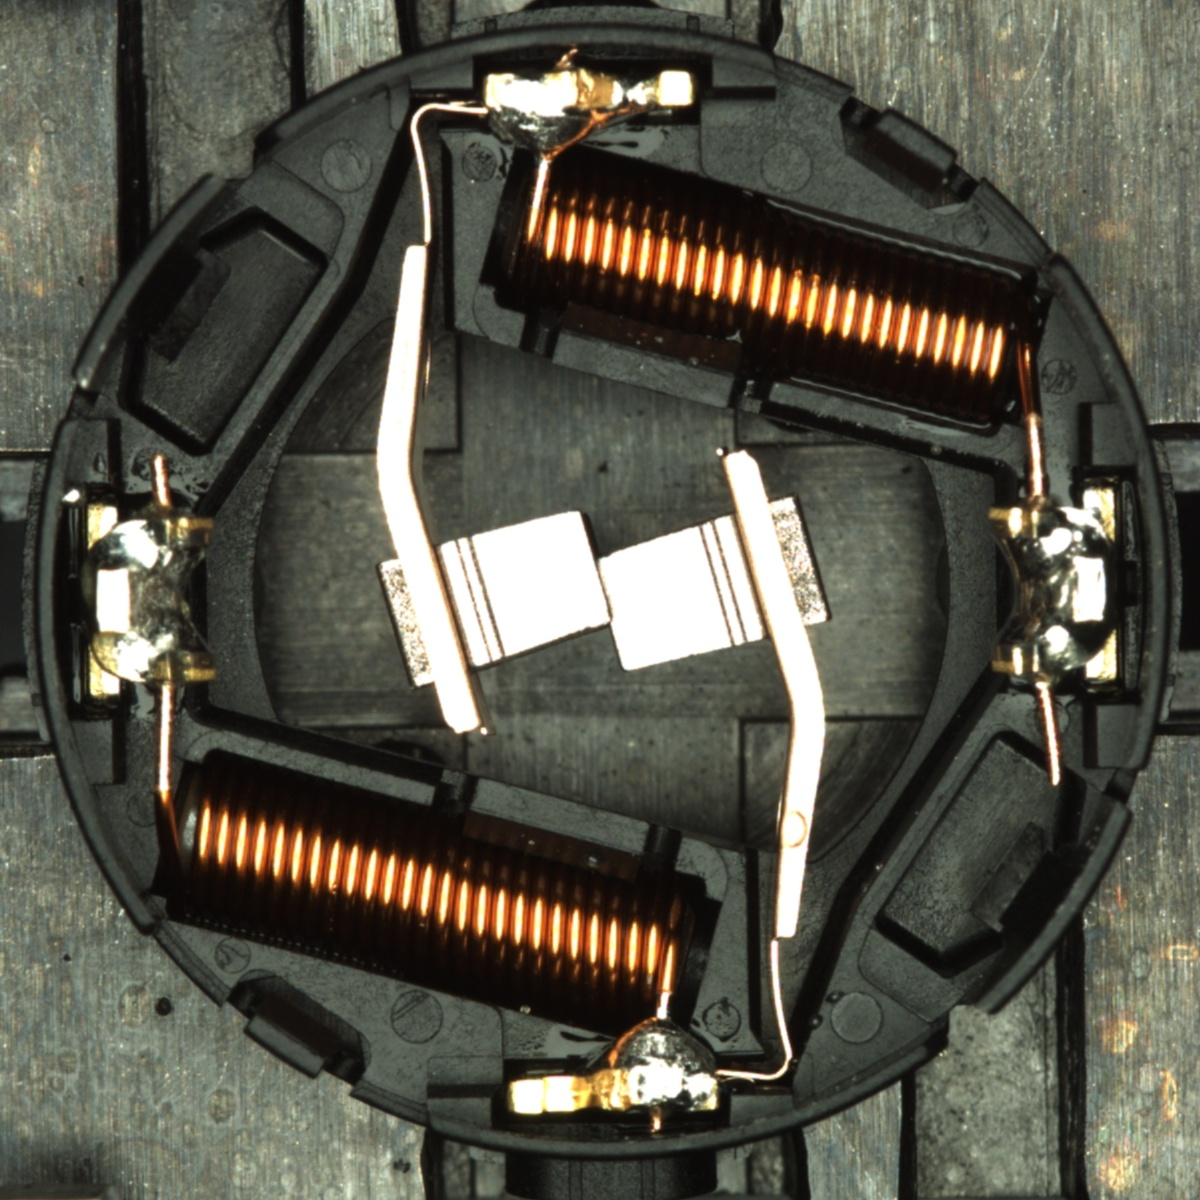1: (253, 30, 482, 254), (711, 928, 940, 1152)
2: (711, 30, 940, 254), (253, 928, 482, 1152)
3: (23, 254, 253, 479), (940, 703, 1170, 928)
4: (253, 254, 482, 479), (711, 703, 940, 928)
5: (482, 142, 711, 367), (482, 815, 711, 1040)
6: (711, 254, 940, 479), (253, 703, 482, 928)
7: (940, 254, 1170, 479), (23, 703, 253, 928)
cacbon: (394, 498, 799, 684)
chau_dien: (80, 498, 221, 699), (982, 487, 1122, 686)
hat_chi: (59, 483, 86, 509)
tay_choi: (505, 1016, 721, 1117), (482, 64, 699, 162)
thanh_de: (952, 787, 1139, 1031), (59, 163, 244, 404)
